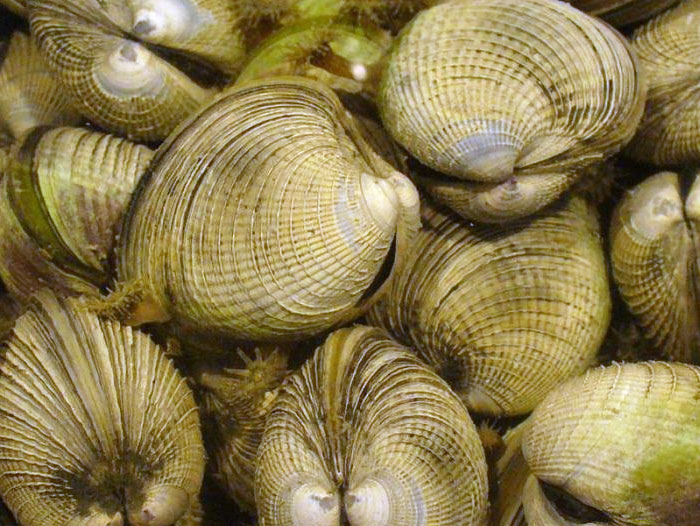cockle: (107, 68, 426, 336), (374, 2, 650, 228), (363, 194, 618, 419), (1, 280, 210, 526), (250, 322, 494, 526), (22, 1, 252, 144), (512, 360, 699, 526), (1, 120, 157, 307), (607, 167, 700, 365), (626, 1, 699, 171)
